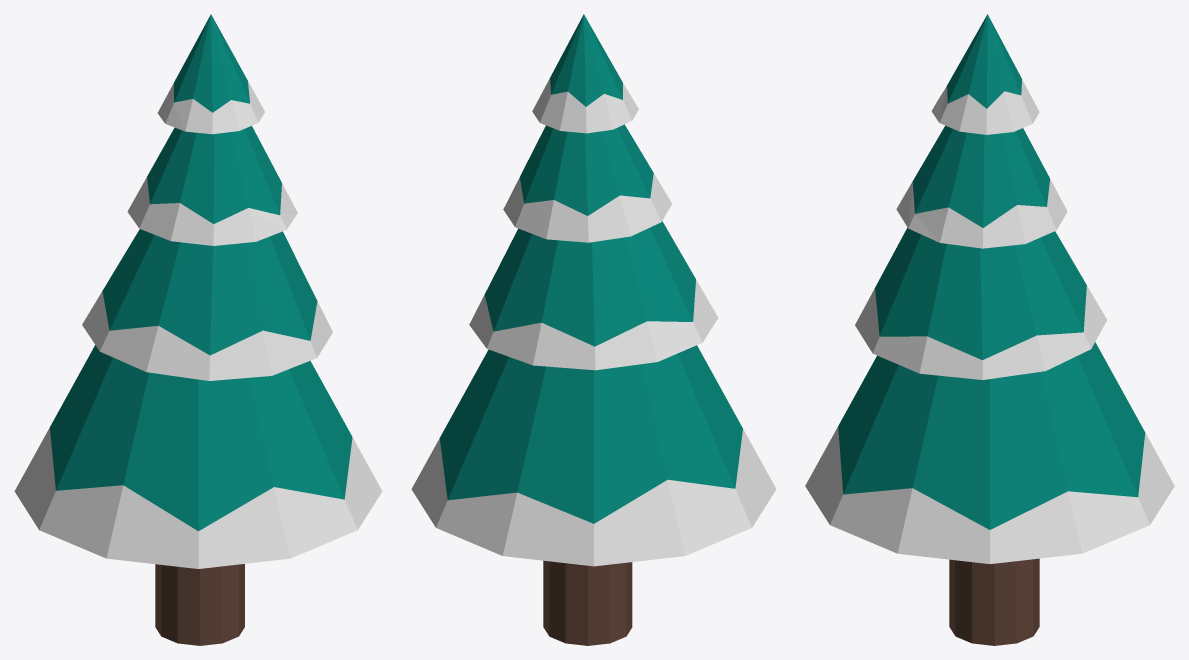
File: Ch_tree_small_1.fbx
3 views of the same model, side by side, from view 1: azimuth 30°, elevation 25°; view 2: azimuth 150°, elevation 25°; view 3: azimuth 270°, elevation 25° (orthographic).
Parts seen in each view (by area): view 1: Ch_tree_small_1; view 2: Ch_tree_small_1; view 3: Ch_tree_small_1.
Part boxes in pixels (x1=…): Ch_tree_small_1: x1=14, y1=14, x2=382, y2=645; Ch_tree_small_1: x1=411, y1=14, x2=776, y2=645; Ch_tree_small_1: x1=805, y1=14, x2=1174, y2=645.
Bounding box in the file's own units: 210 × 387 × 210.
